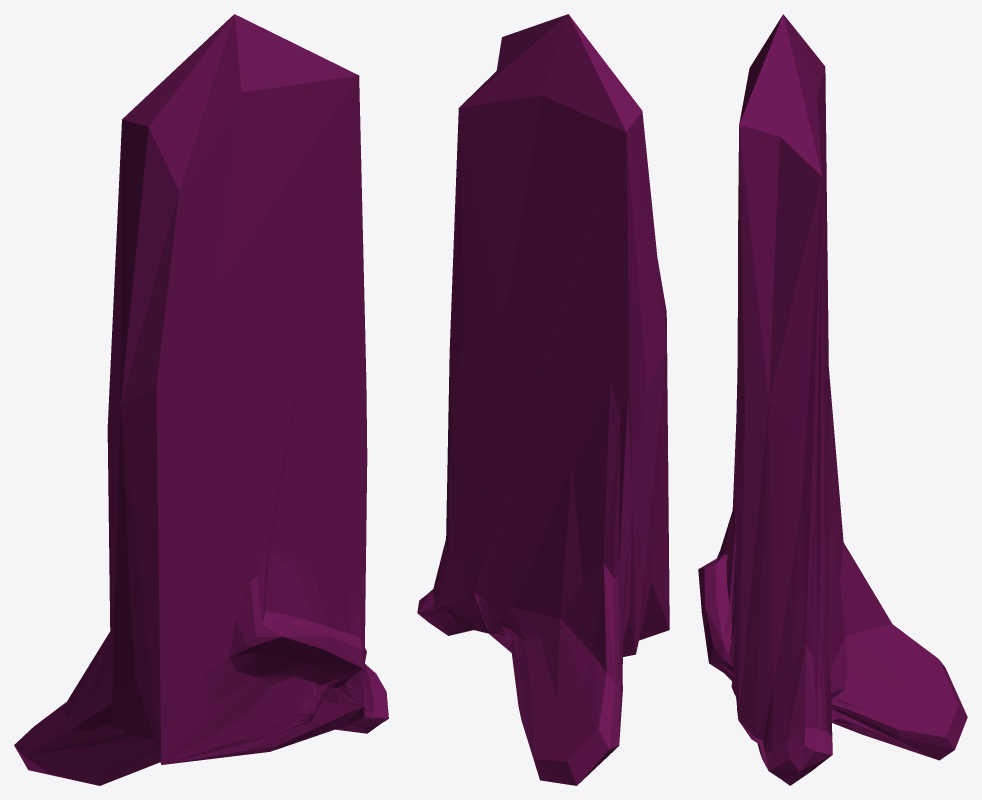
3 views of the same model, side by side, from view 1: azimuth 30°, elevation 25°; view 2: azimuth 150°, elevation 25°; view 3: azimuth 270°, elevation 25° (orthographic). The views are drawn at different scales.
Parts seen in each view (by area): view 1: 748_Cube.3006; view 2: 748_Cube.3006; view 3: 748_Cube.3006.
Part boxes in pixels (box(x1,y1,x2,y2)): 748_Cube.3006: box(14, 14, 388, 785); 748_Cube.3006: box(417, 14, 669, 785); 748_Cube.3006: box(698, 14, 967, 785).
Size of the model in its own units: 5.06 by 13.57 by 4.31.
